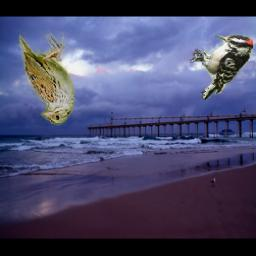Sparrow: (19, 30, 74, 126)
Woodpecker: (190, 34, 253, 101)
